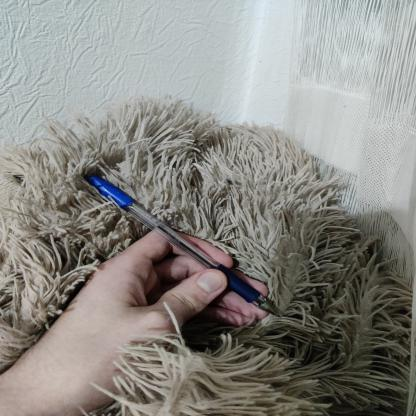pen: (87, 168, 291, 336)
